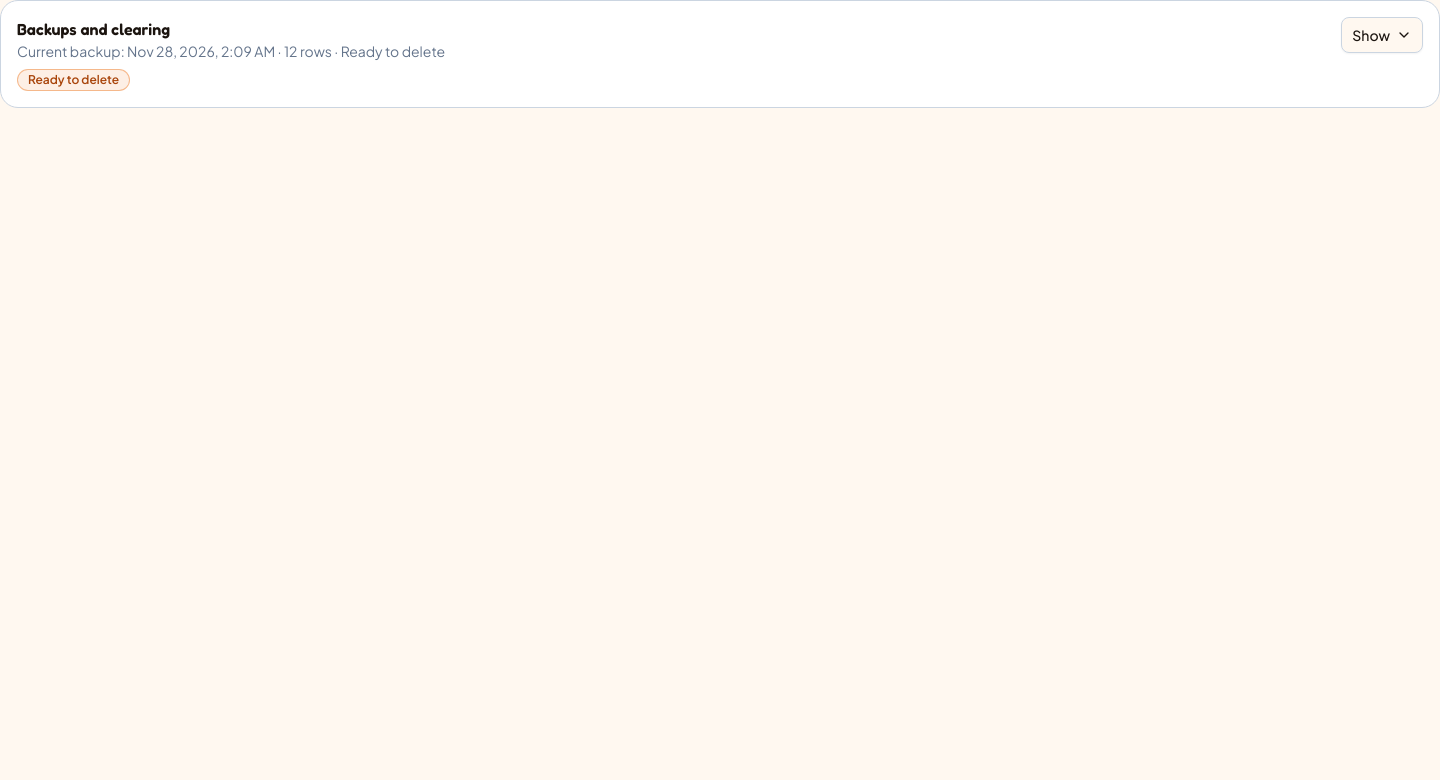
Test: Activity Log backup panel › does not request deletion with an incorrect typed confirmation
Later steps or results of the test are not shown.
expect the text "Current backup:" is shown: met, box [17,42,445,60]
Click the button with aria-label "Show backups and clearing" at (1382, 35), box [1341,17,1423,53]
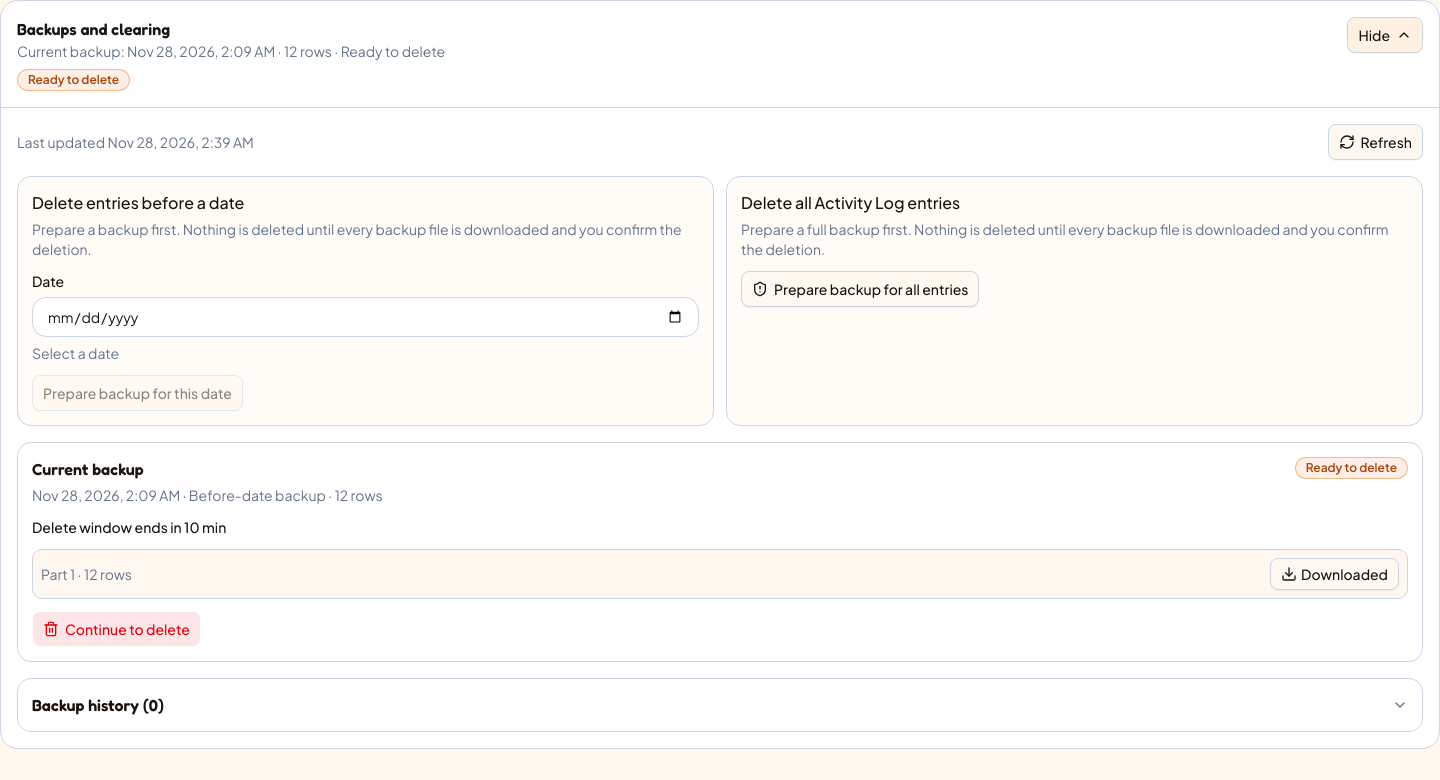
Click the button "Continue to delete" at (116, 629), box [32,611,201,647]
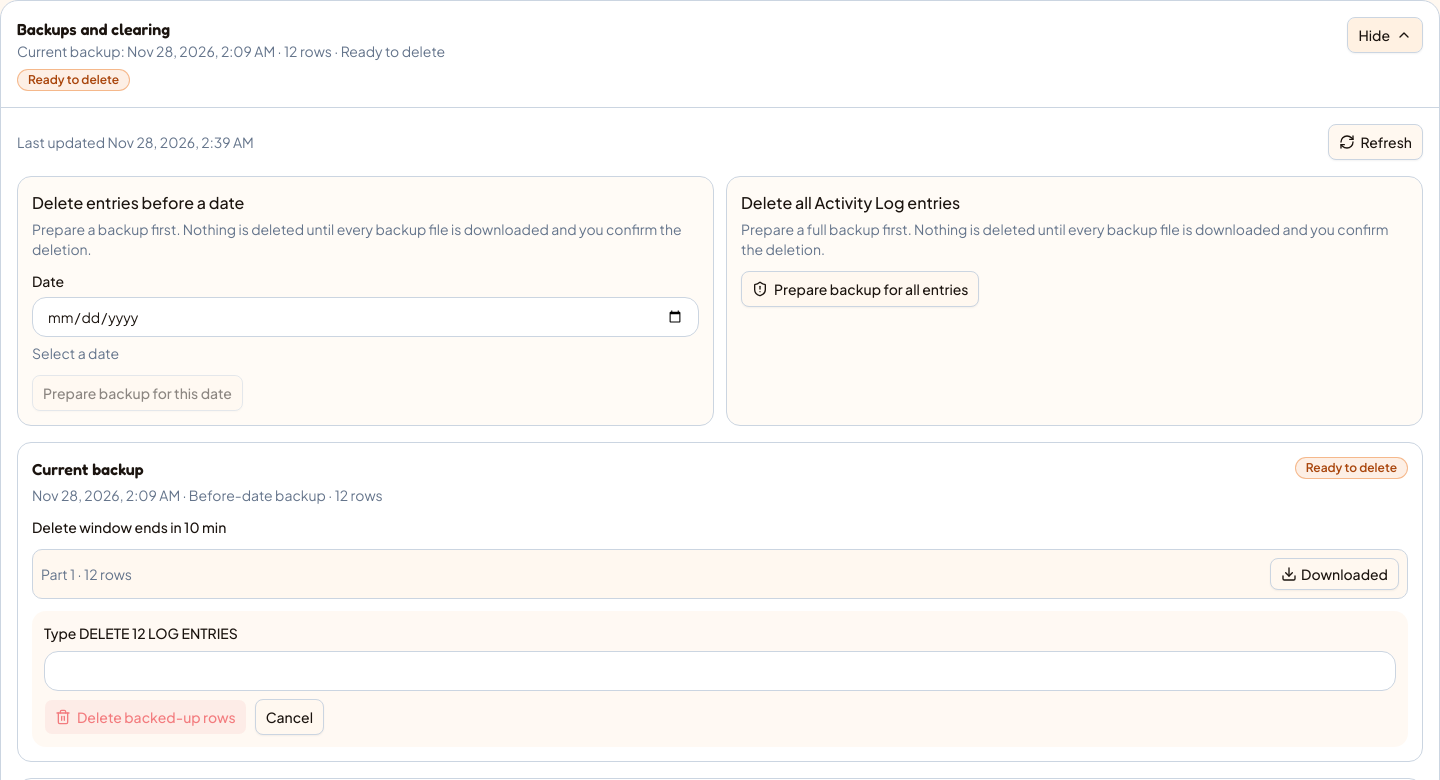
Type "DELETE 11 LOG ENTRIES" into the field labelled "Type DELETE 12 LOG ENTRIES" at (720, 671), box [44,651,1396,691]
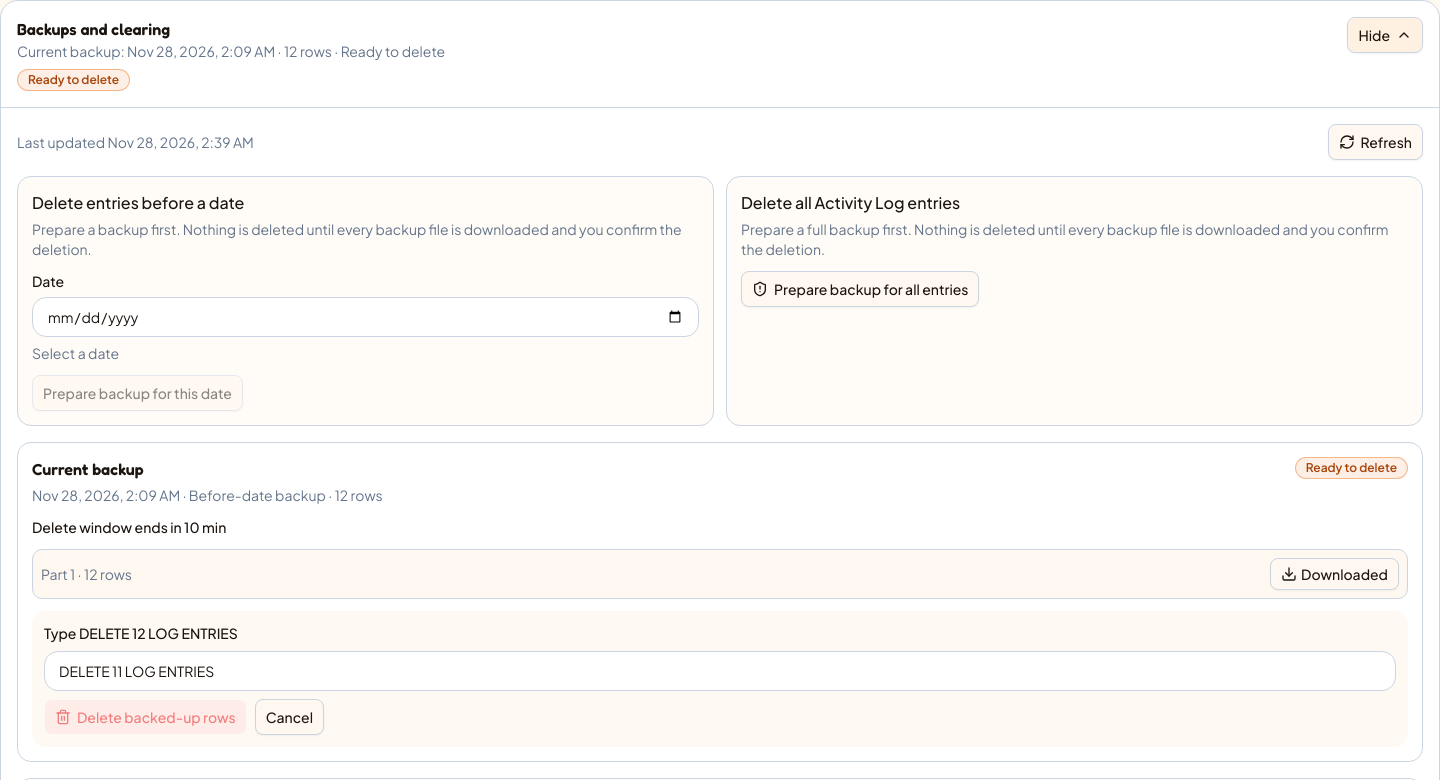
expect the button "Delete backed-up rows" is disabled: met, box [44,699,247,735]
